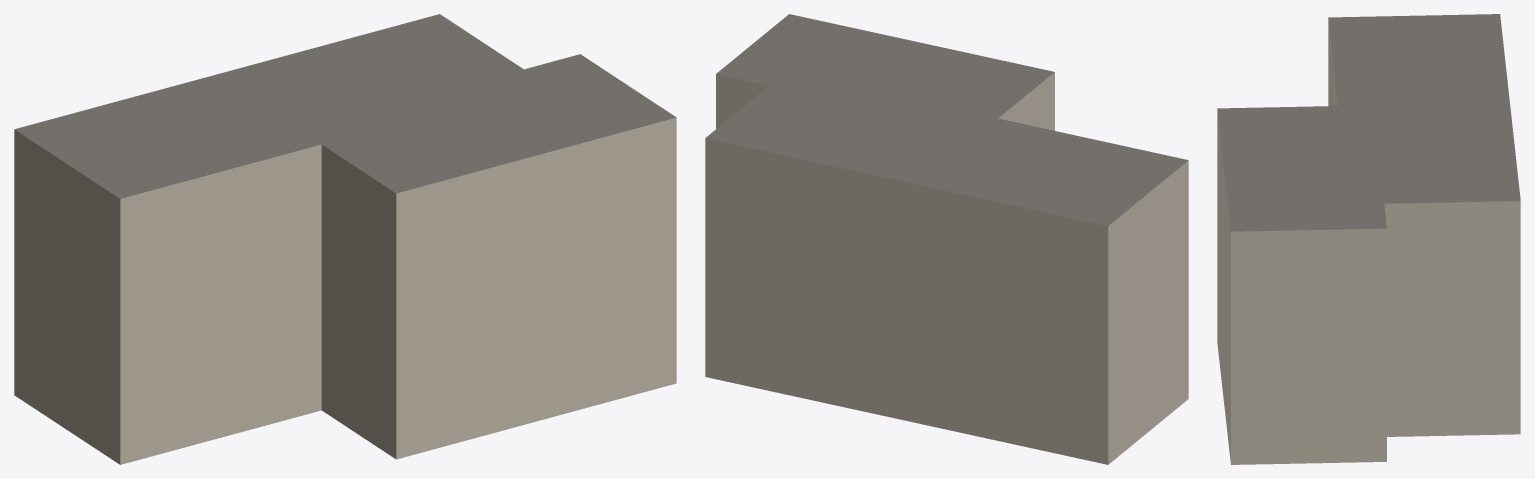
3 renders of one model, left to right at view 1: azimuth 30°, elevation 25°; view 2: azimuth 150°, elevation 25°; view 3: azimuth 270°, elevation 25°, orthographic. The views are drawn at different scales.
Parts seen in each view (by area): view 1: HP-w369317605; view 2: HP-w369317605; view 3: HP-w369317605.
Boxes of the visible parts, x1,y1,x2,y2 form: HP-w369317605: (14,14,676,464); HP-w369317605: (705,14,1188,464); HP-w369317605: (1217,14,1520,464).
Bounding box in the file's own units: 36.04 × 18 × 21.23.
